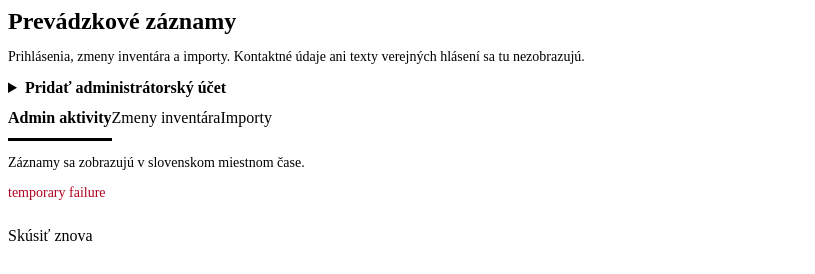
Scenario: AdminLogsPage › shows empty and request error states, then retries with the generic non-Error message
Check: the text "temporary failure" is shown, box top-left (8, 185), bottom-right (106, 200)
Click the button "Skúsiť znova" at (50, 236), box top-left (8, 215), bottom-right (93, 257)
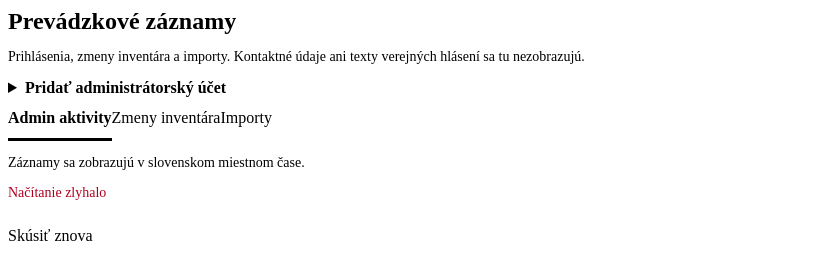
Check: the text "Načítanie zlyhalo" is shown, box top-left (8, 185), bottom-right (106, 200)
Click the button "Skúsiť znova" at (50, 236), box top-left (8, 215), bottom-right (93, 257)
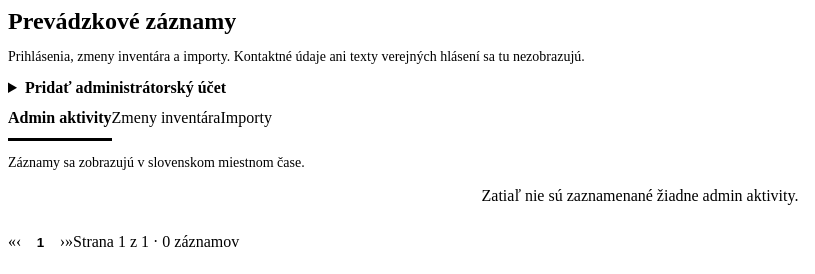
Check: the text "Zatiaľ nie sú zaznamenané žiadne admin aktivity." is shown, box top-left (482, 187), bottom-right (798, 204)
